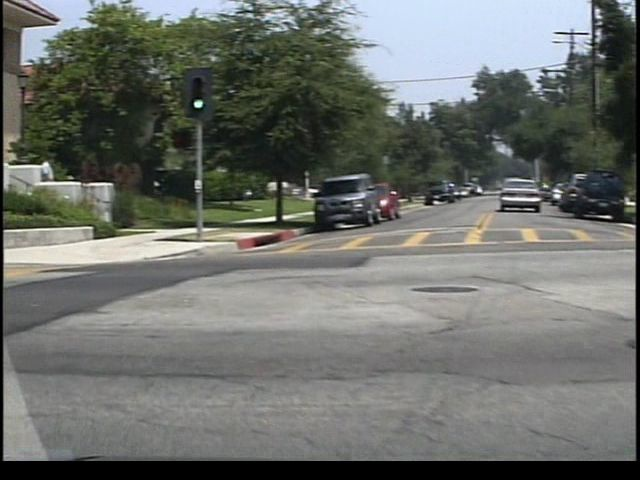person: (30, 153, 50, 215)
